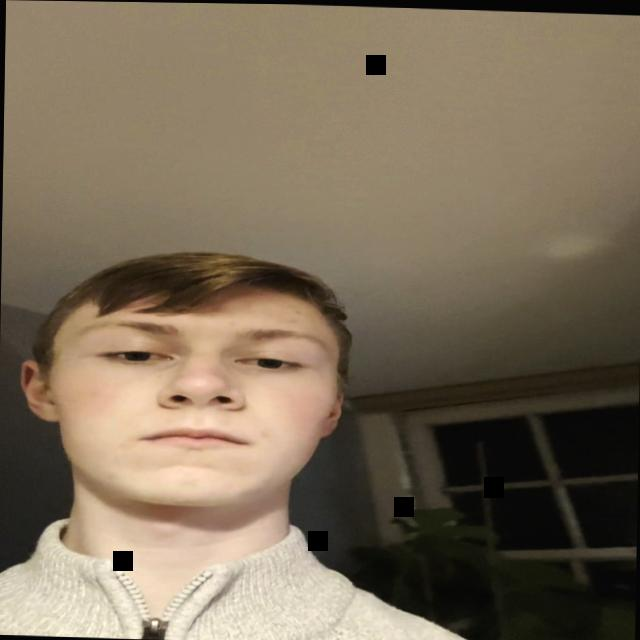NO-Mask: (24, 240, 363, 541)
